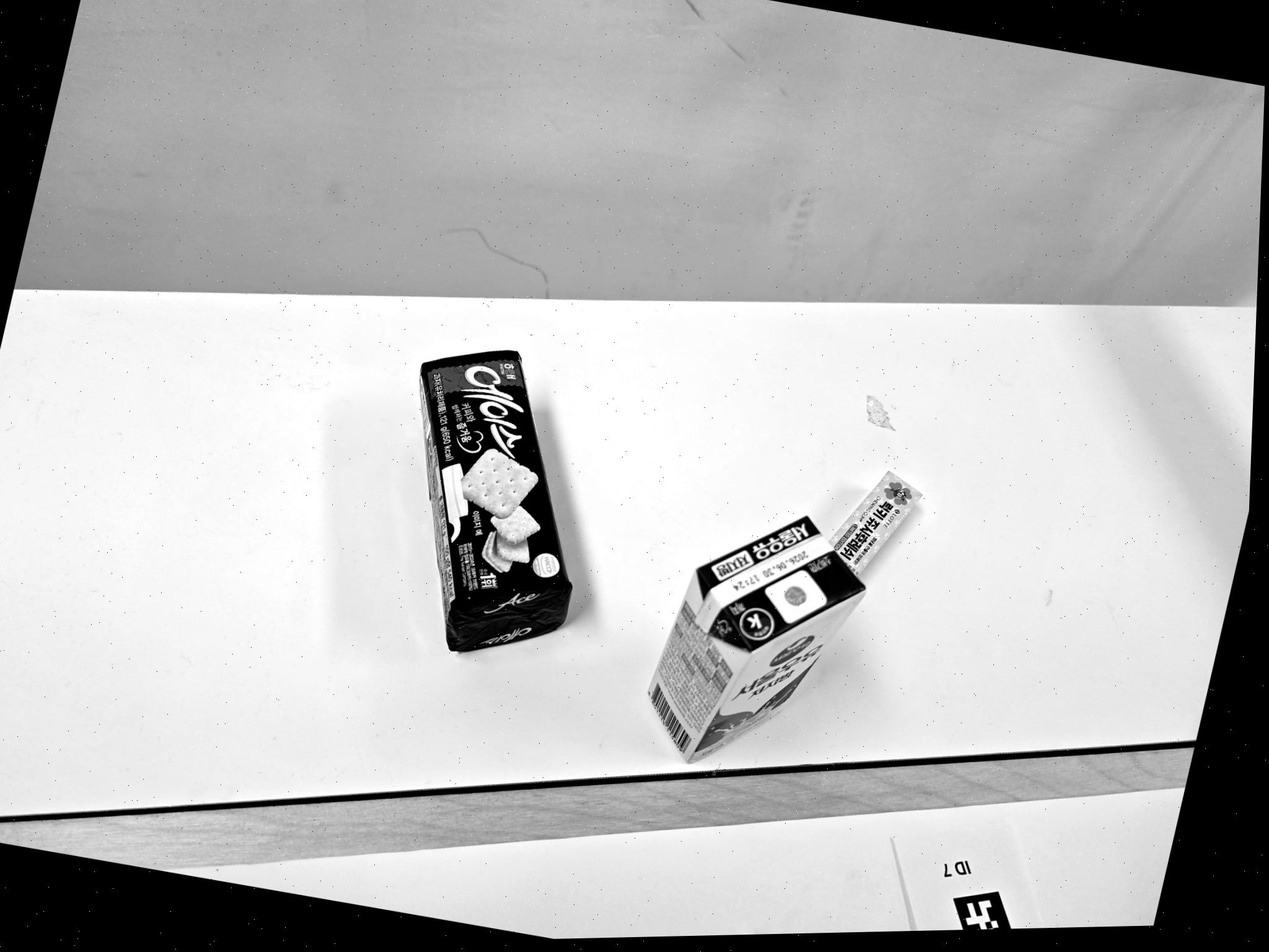cracker_ace: (420, 351, 572, 651)
gum_yellow: (830, 472, 920, 573)
milk_blue: (649, 516, 864, 762)
